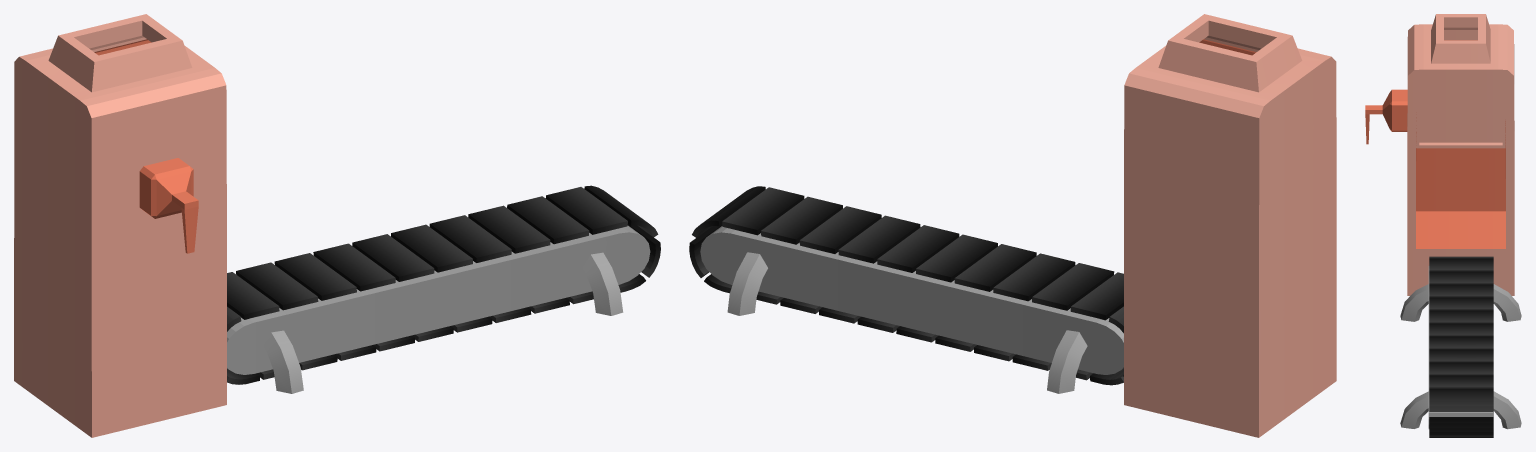
The model's file is CheeseMachine.fbx.
3 views of the same model, side by side, from view 1: azimuth 30°, elevation 25°; view 2: azimuth 150°, elevation 25°; view 3: azimuth 270°, elevation 25° (orthographic). The views are drawn at different scales.
Visible parts, largest first — view 1: Oven, Legs_Bottom, chain.001, Hand, Hand2; view 2: Oven, Legs_Bottom, chain.001; view 3: Oven, chain.001, Legs_Bottom, Hand, Hand2.
Part boxes in pixels (box(x1,y1,x2,y2)): Oven: box(14, 14, 226, 437); Legs_Bottom: box(227, 225, 650, 393); chain.001: box(227, 185, 660, 384); Hand: box(139, 158, 193, 218); Hand2: box(172, 191, 198, 253); Oven: box(1124, 14, 1336, 437); Legs_Bottom: box(700, 226, 1123, 393); chain.001: box(689, 186, 1123, 385); Oven: box(1407, 14, 1514, 295); chain.001: box(1429, 256, 1493, 437); Legs_Bottom: box(1400, 266, 1521, 429); Hand: box(1382, 89, 1407, 131); Hand2: box(1365, 105, 1382, 144).
Size of the model in its own units: 2.62 by 1.52 by 0.8796.
1 material, 1 textured.
